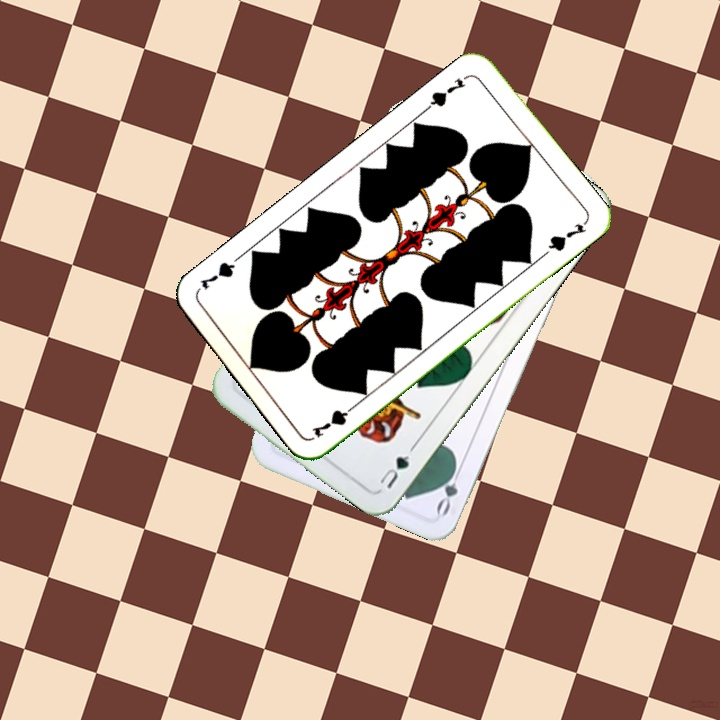G7: (307, 398, 361, 441), (421, 73, 468, 113)
GO: (432, 459, 465, 518)
GU: (373, 442, 417, 492)
